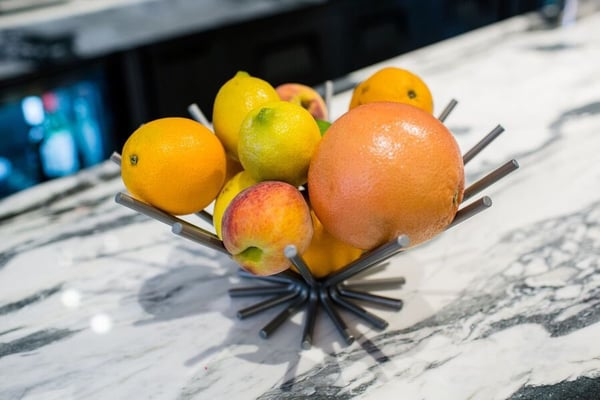taco: (307, 101, 466, 250), (120, 116, 228, 215), (220, 180, 314, 275), (237, 101, 322, 186), (348, 66, 434, 116)
